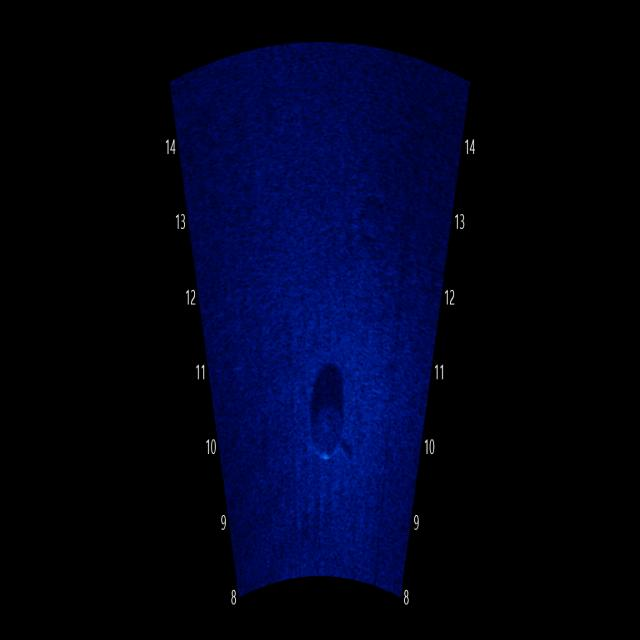circle: (303, 385, 352, 477)
